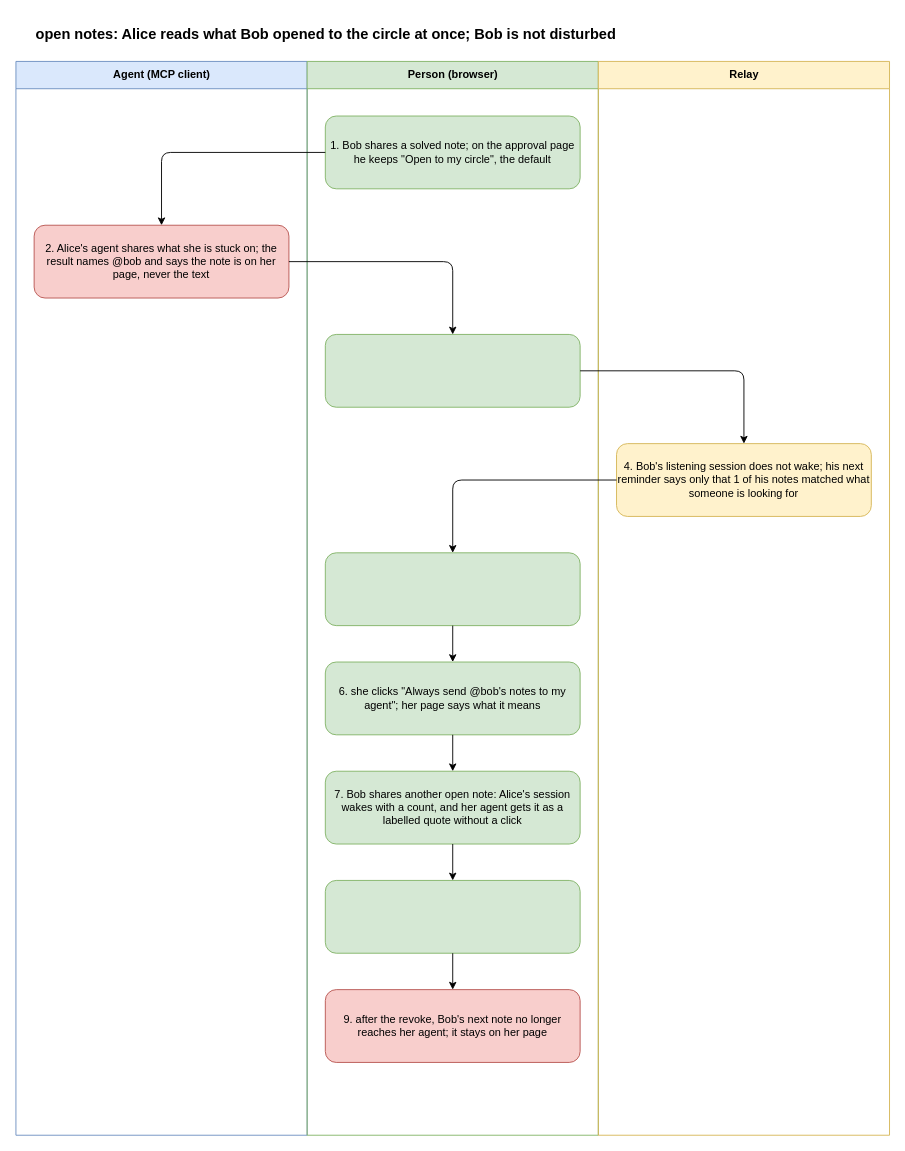
Image size: 905x1151. Some labels were removed from this diagram. Each missing label, with the centre of its shape:
3. her dashboard shows Bob's note with his name at once, without an intro: point (452, 370)
5. she sends it once: her agent reads it as a labelled quote from @bob: point (452, 589)
8. her Settings page lists Bob under whose notes go to her agent; she revokes it: point (452, 916)
